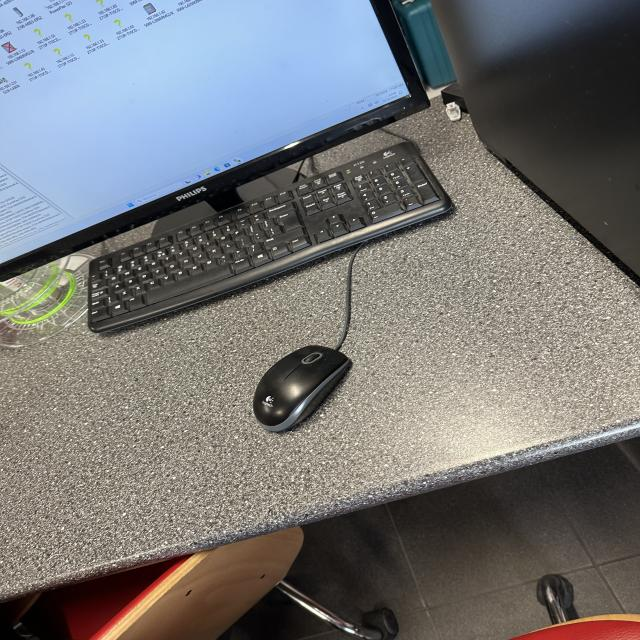mysz: (248, 338, 351, 434)
